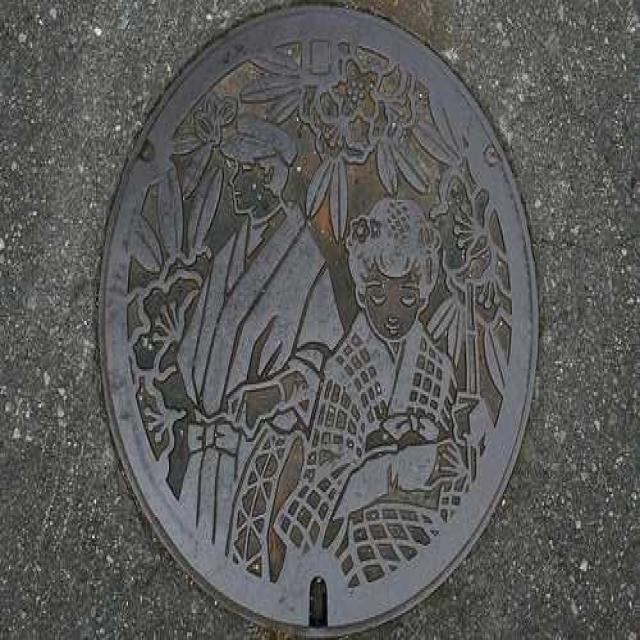manhole: (100, 6, 538, 632)
